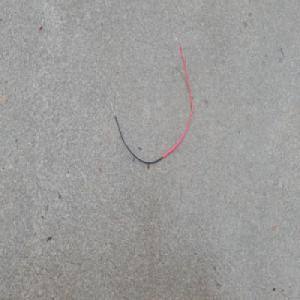Wire: (109, 33, 194, 167)
